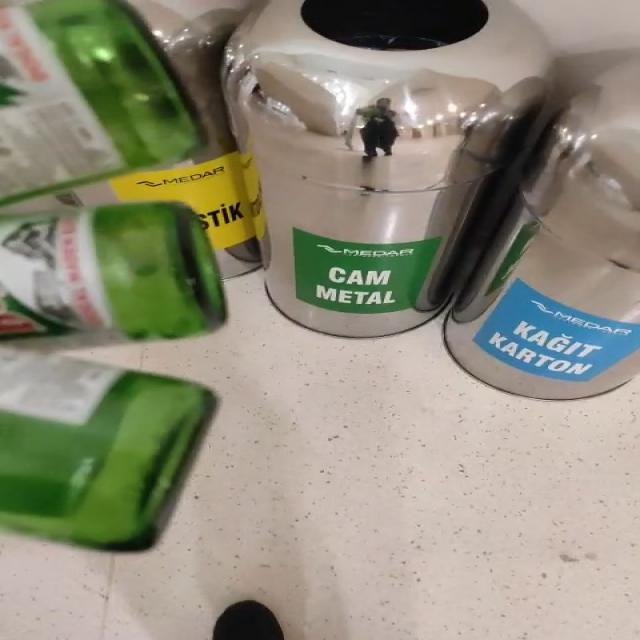bin: (225, 0, 640, 400)
glass: (0, 202, 225, 551), (1, 0, 201, 202)
